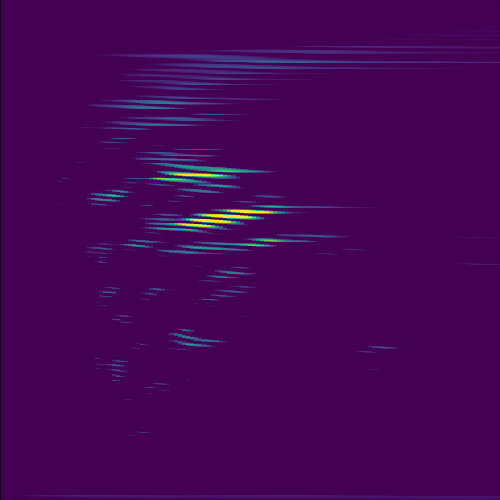semblance: (144, 201, 298, 233), (129, 163, 264, 187)
